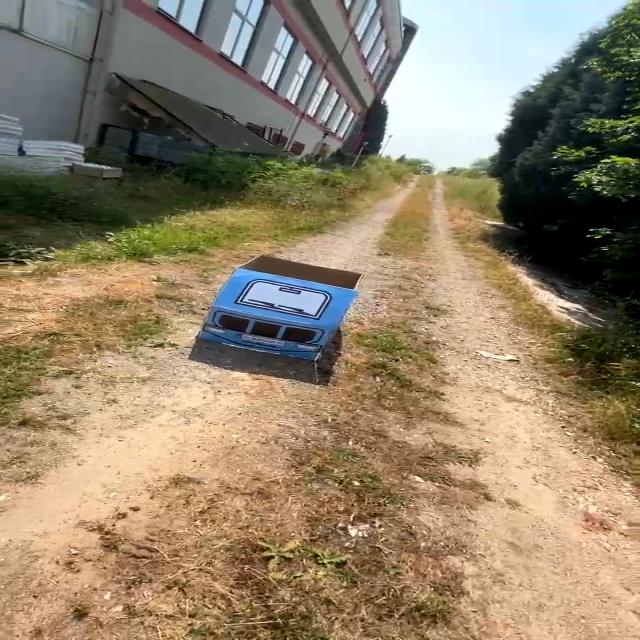blue_car: (174, 242, 384, 400)
